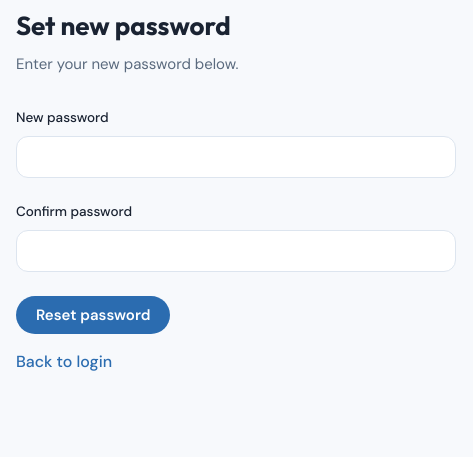
Test: ResetPassword page › shows an error when the passwords do not match
The image size is (473, 457).
Type "Password123" into the password field labelled "New password".
click(236, 157); type("Password123")  # box [16, 136, 456, 178]
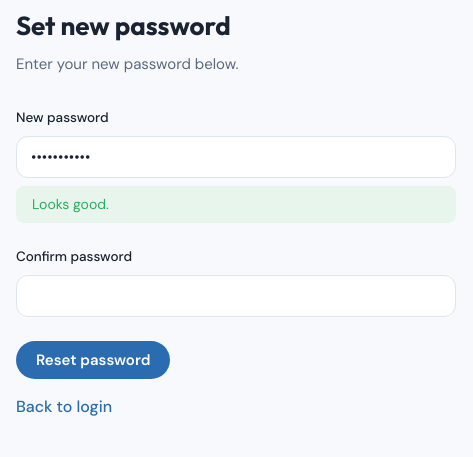
Type "Password456" into the password field labelled "Confirm password".
click(236, 296); type("Password456")  # box [16, 275, 456, 317]
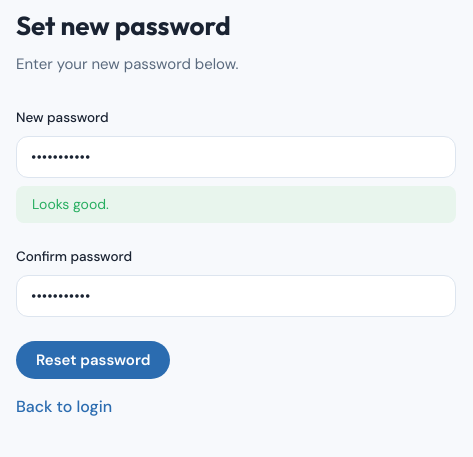
Click the button "Reset password".
click(93, 360)  # box [16, 341, 170, 379]
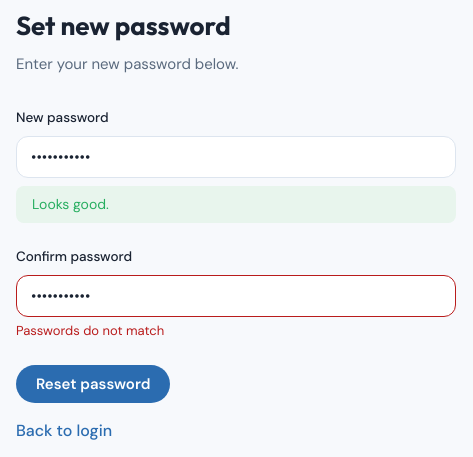
Check: the text "Passwords do not match" is shown, box [16, 322, 164, 339]
